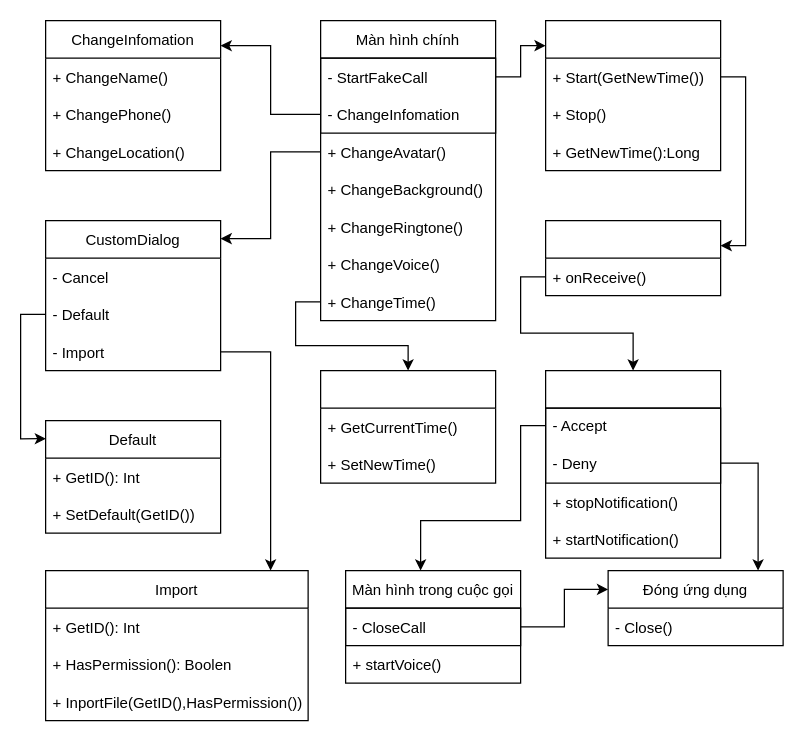
Some shapes in this 804 by 741 pixel diagram are drawn without their labels. The box of each missing label's shape, as (x1, y1, x2, y2) in pixels:
AlarmReceiver: (544, 219, 721, 296)
MaterialTimePicker: (319, 369, 496, 483)
Màn hình nhận cuộc gọi: (544, 369, 721, 558)
ReceiveCallService: (544, 19, 721, 171)
